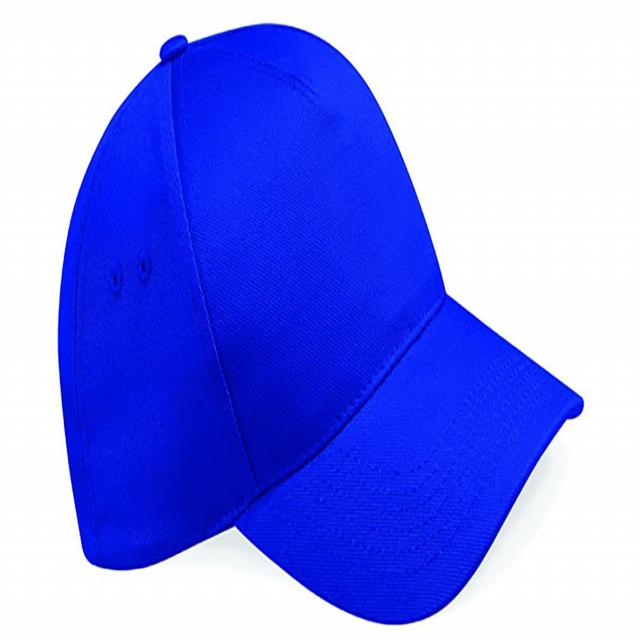mask: (44, 26, 595, 625)
